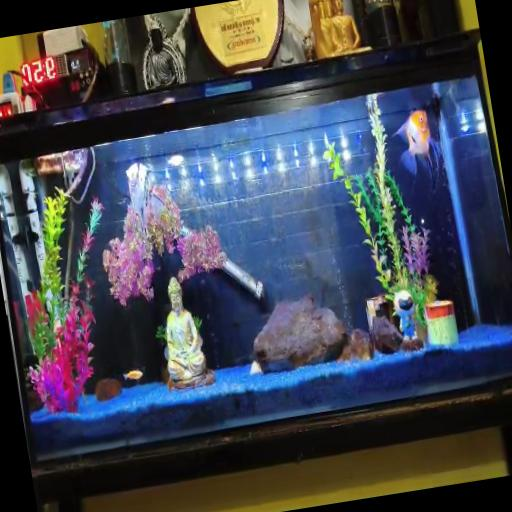Fish: (394, 111, 439, 190), (123, 371, 142, 380)
